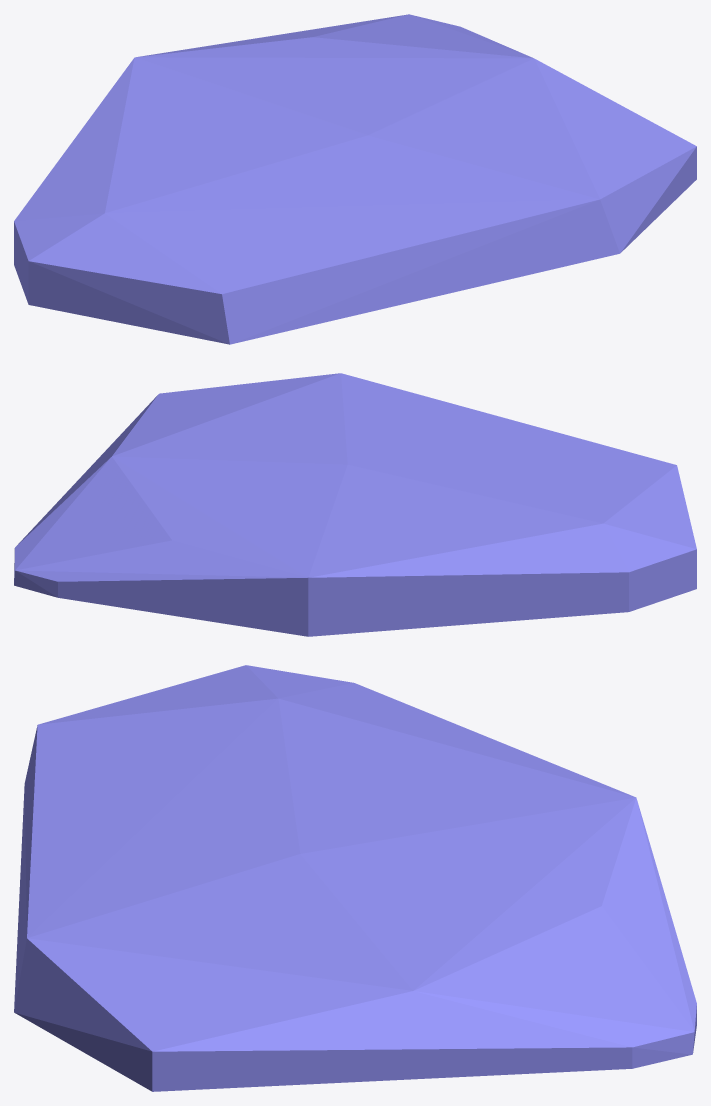
Rendered from Plate_06_Collider_01.FBX.
3 views of the same model, one above another, from view 1: azimuth 30°, elevation 25°; view 2: azimuth 150°, elevation 25°; view 3: azimuth 270°, elevation 25° (orthographic). The views are drawn at different scales.
Parts seen in each view (by area): view 1: COLLIDER1; view 2: COLLIDER1; view 3: COLLIDER1.
Boxes of the visible parts, x1=… form: COLLIDER1: x1=14, y1=14, x2=696, y2=344; COLLIDER1: x1=14, y1=373, x2=696, y2=636; COLLIDER1: x1=14, y1=665, x2=696, y2=1091.
Size of the model in its own units: 228 by 28.42 by 176.
